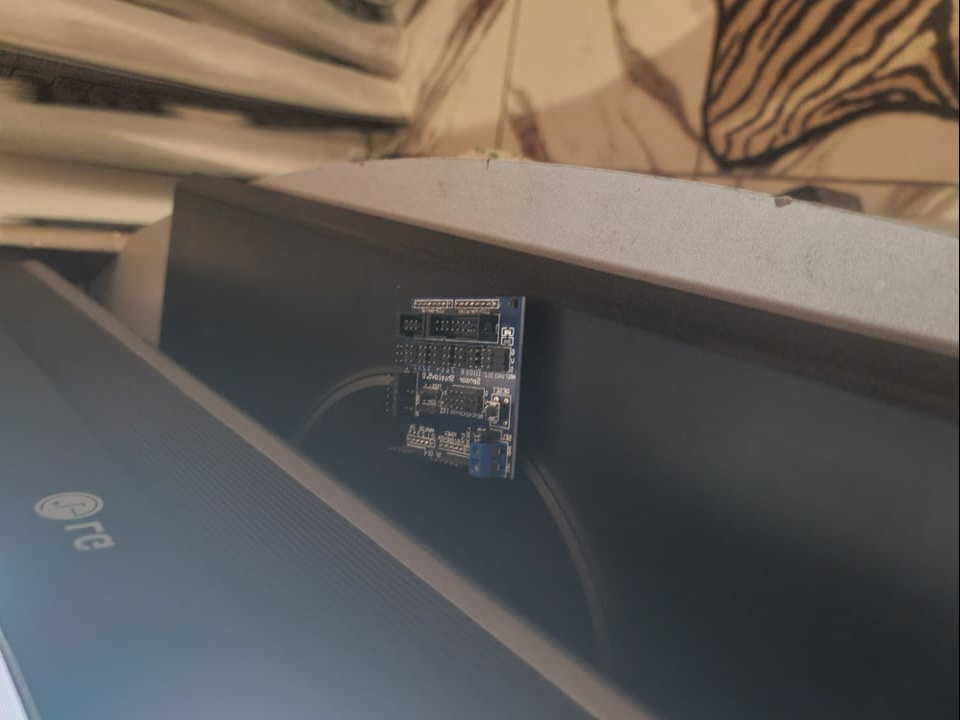5V EXPANSION: (384, 290, 526, 480)
